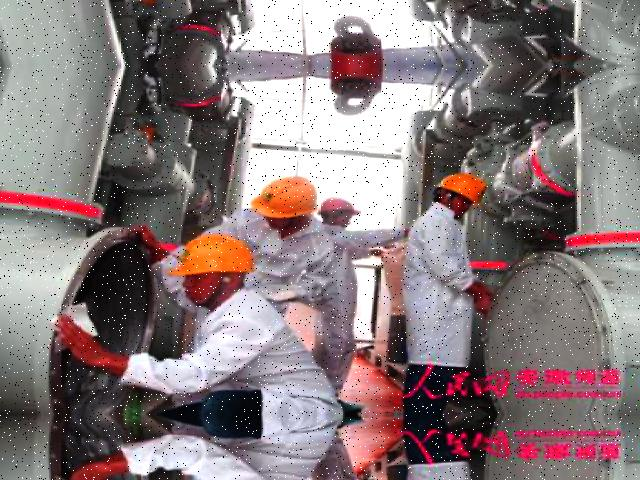Helmet: (161, 229, 260, 281), (245, 171, 326, 226), (428, 166, 487, 212), (316, 193, 362, 216)
